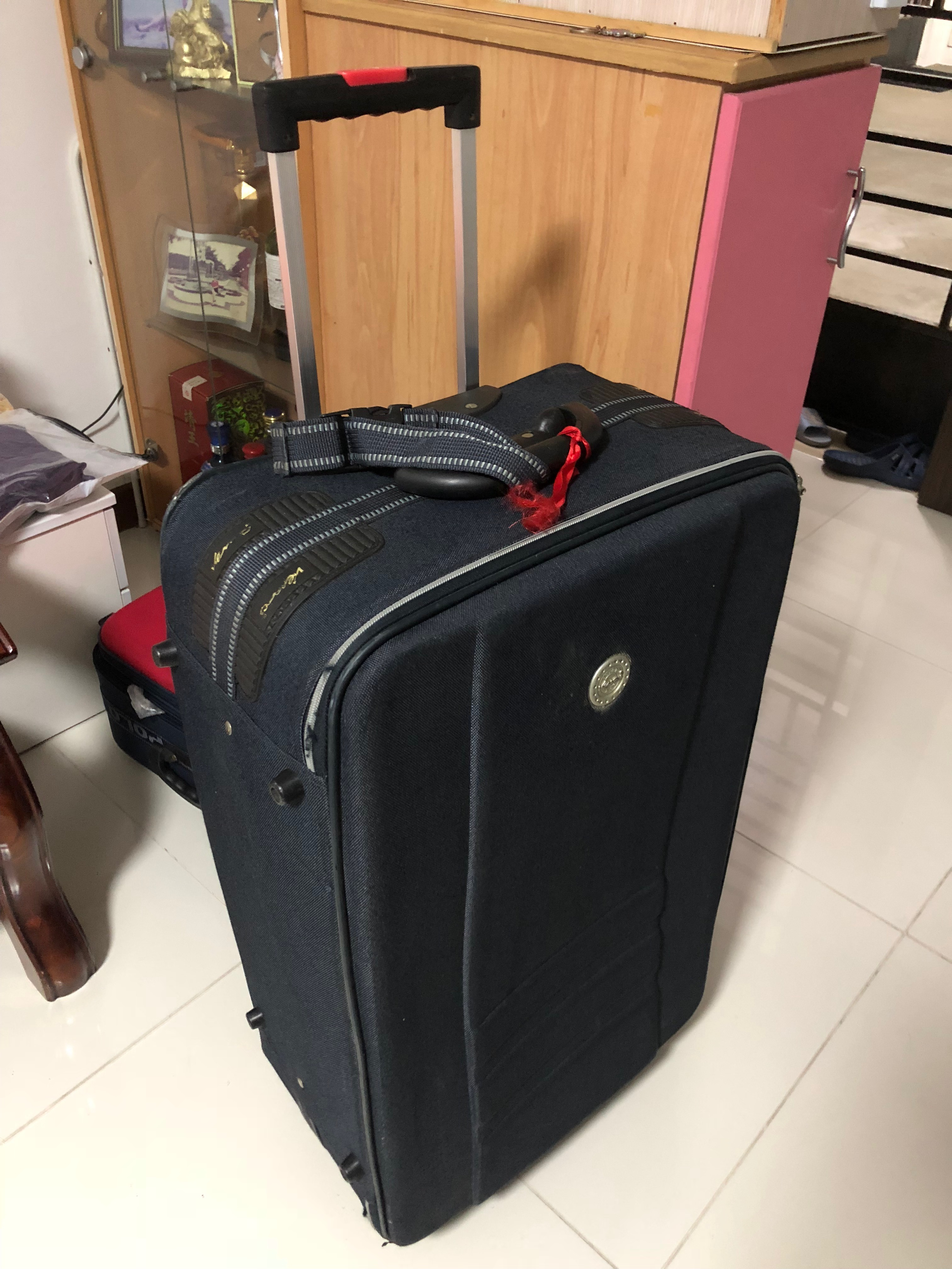box: (158, 364, 801, 1247)
handle: (393, 402, 606, 499)
